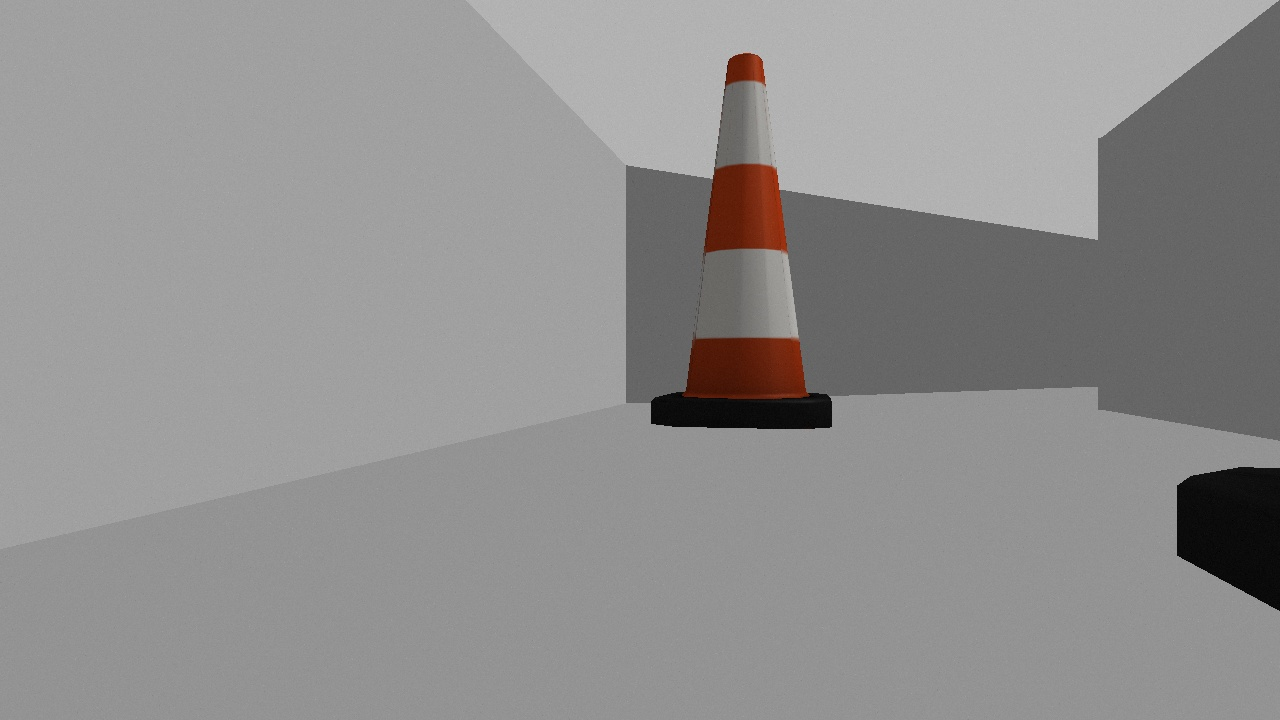barricade: (640, 26, 848, 452)
